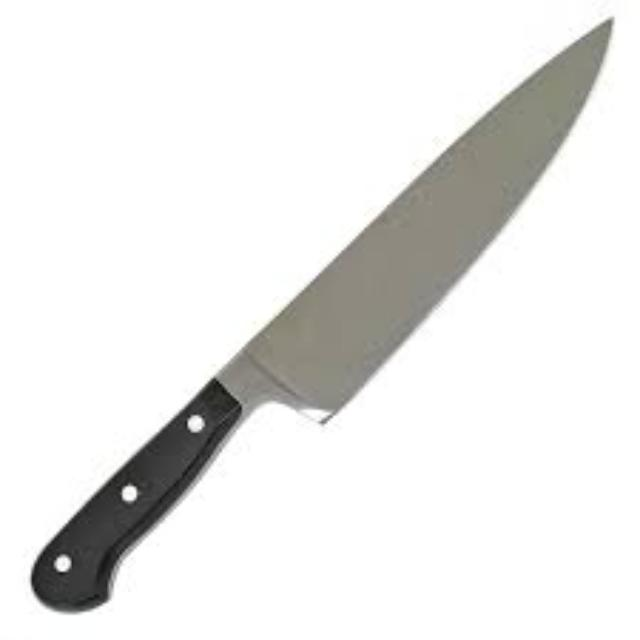Knife: (29, 14, 614, 612)
